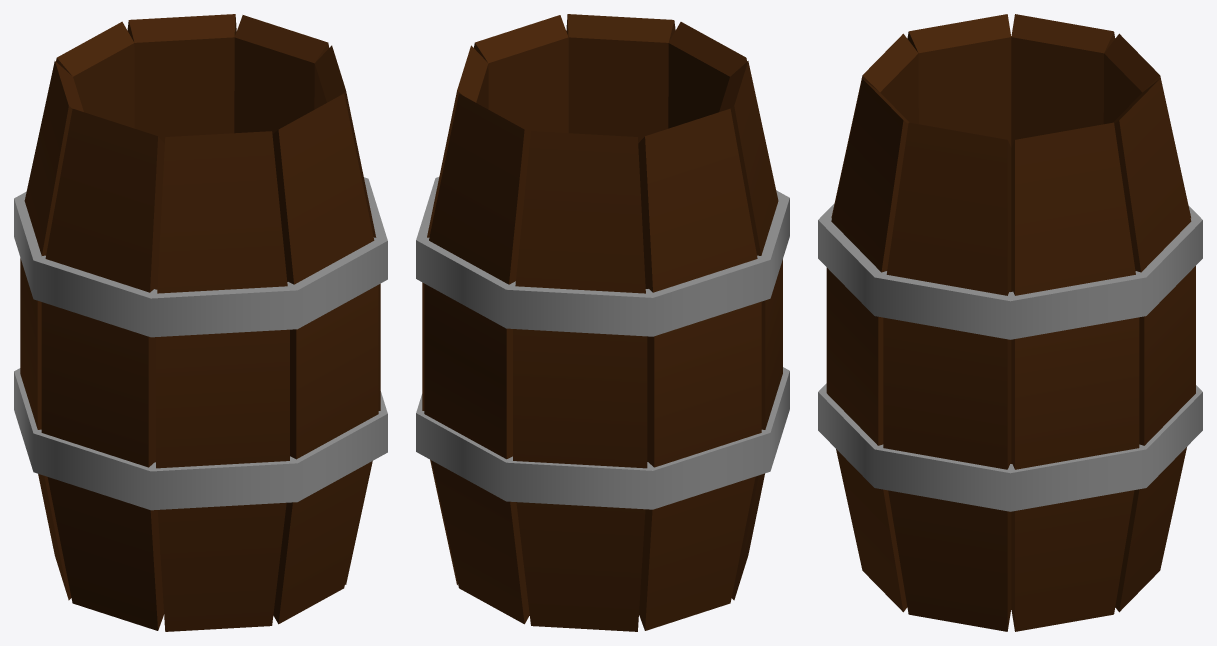
File: BarrelOpen.FBX
3 renders of one model, left to right at view 1: azimuth 30°, elevation 25°; view 2: azimuth 150°, elevation 25°; view 3: azimuth 270°, elevation 25°, orthographic.
Visible parts, largest first — view 1: Cylinder001, Cylinder004, Cylinder005; view 2: Cylinder001, Cylinder004, Cylinder005; view 3: Cylinder001, Cylinder004, Cylinder005.
Boxes of the visible parts, bbox=[...] form: Cylinder001: bbox=[20, 14, 380, 631]; Cylinder004: bbox=[14, 177, 387, 337]; Cylinder005: bbox=[14, 368, 387, 510]; Cylinder001: bbox=[422, 14, 782, 631]; Cylinder004: bbox=[416, 177, 789, 336]; Cylinder005: bbox=[416, 367, 789, 509]; Cylinder001: bbox=[826, 14, 1195, 631]; Cylinder004: bbox=[818, 203, 1202, 339]; Cylinder005: bbox=[818, 383, 1202, 511].
Size of the model in its own units: 20.04 by 28.27 by 20.04.
